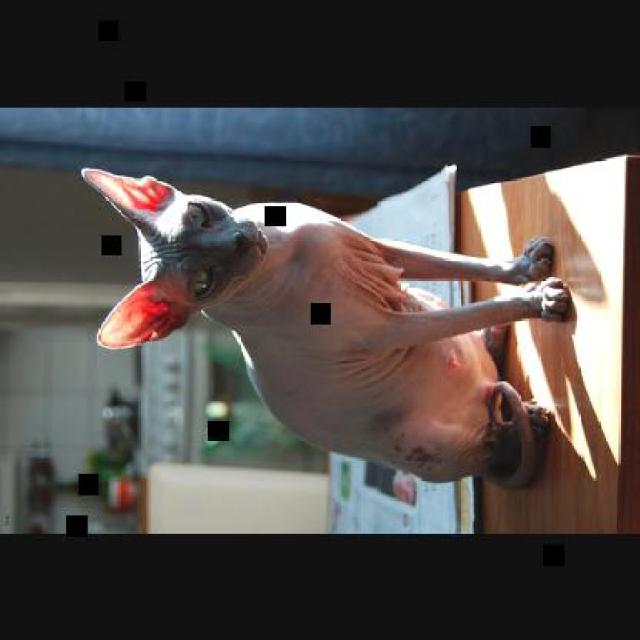unauthorized: (78, 164, 572, 490)
